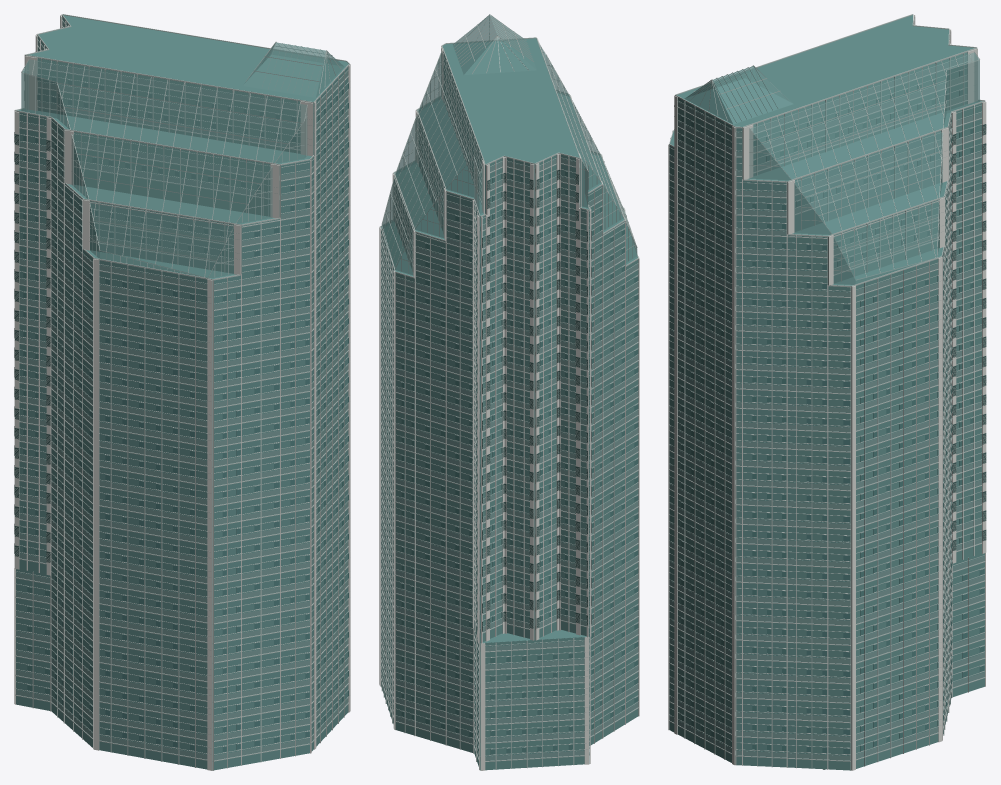
File: bespoke-lotte-castle-ivy-102.glb
3 views of the same model, side by side, from view 1: azimuth 30°, elevation 25°; view 2: azimuth 150°, elevation 25°; view 3: azimuth 270°, elevation 25° (orthographic). The views are drawn at different scales.
Parts seen in each view (by area): view 1: 102_broad_faces_and_V_end008, 102_broad_faces_and_V_end008_3, 102_broad_faces_and_V_end008_1, 102_sloped_glass_terraces_and_crown008_1, 102_broad_faces_and_V_end008_2, 102_individual_stepped_masses008, 102_broad_faces_and_V_end008_6, 102_sloped_glass_terraces_and_crown008, 102_broad_faces_and_V_end008_4, 102_broad_faces_and_V_end008_5; view 2: 102_broad_faces_and_V_end008, 102_broad_faces_and_V_end008_3, 102_broad_faces_and_V_end008_1, 102_broad_faces_and_V_end008_2, 102_individual_stepped_masses008, 102_sloped_glass_terraces_and_crown008_1, 102_broad_faces_and_V_end008_6, 102_broad_faces_and_V_end008_4, 102_sloped_glass_terraces_and_crown008, 102_broad_faces_and_V_end008_5; view 3: 102_broad_faces_and_V_end008, 102_broad_faces_and_V_end008_3, 102_broad_faces_and_V_end008_1, 102_sloped_glass_terraces_and_crown008_1, 102_broad_faces_and_V_end008_2, 102_individual_stepped_masses008, 102_broad_faces_and_V_end008_6, 102_sloped_glass_terraces_and_crown008, 102_broad_faces_and_V_end008_4, 102_broad_faces_and_V_end008_5.
Boxes of the visible parts, x1,y1,x2,y2 form: 102_broad_faces_and_V_end008: [16, 16, 348, 770]; 102_broad_faces_and_V_end008_3: [15, 20, 349, 768]; 102_broad_faces_and_V_end008_1: [16, 21, 348, 760]; 102_sloped_glass_terraces_and_crown008_1: [21, 42, 344, 278]; 102_broad_faces_and_V_end008_2: [14, 15, 350, 770]; 102_individual_stepped_masses008: [18, 15, 348, 278]; 102_broad_faces_and_V_end008_6: [23, 75, 348, 752]; 102_sloped_glass_terraces_and_crown008: [15, 14, 349, 280]; 102_broad_faces_and_V_end008_4: [14, 132, 50, 562]; 102_broad_faces_and_V_end008_5: [15, 135, 50, 562]; 102_broad_faces_and_V_end008: [381, 52, 638, 770]; 102_broad_faces_and_V_end008_3: [380, 45, 638, 769]; 102_broad_faces_and_V_end008_1: [381, 58, 638, 760]; 102_broad_faces_and_V_end008_2: [379, 38, 639, 770]; 102_individual_stepped_masses008: [381, 38, 637, 642]; 102_sloped_glass_terraces_and_crown008_1: [381, 15, 637, 274]; 102_broad_faces_and_V_end008_6: [381, 69, 638, 754]; 102_broad_faces_and_V_end008_4: [472, 169, 591, 631]; 102_sloped_glass_terraces_and_crown008: [380, 14, 638, 278]; 102_broad_faces_and_V_end008_5: [472, 171, 587, 629]; 102_broad_faces_and_V_end008: [669, 52, 984, 770]; 102_broad_faces_and_V_end008_3: [669, 19, 985, 768]; 102_broad_faces_and_V_end008_1: [669, 24, 984, 760]; 102_sloped_glass_terraces_and_crown008_1: [684, 52, 979, 284]; 102_broad_faces_and_V_end008_2: [668, 15, 986, 770]; 102_individual_stepped_masses008: [670, 15, 982, 285]; 102_broad_faces_and_V_end008_6: [681, 70, 984, 754]; 102_sloped_glass_terraces_and_crown008: [669, 14, 984, 287]; 102_broad_faces_and_V_end008_4: [952, 124, 986, 550]; 102_broad_faces_and_V_end008_5: [953, 125, 986, 550].
Bounding box in the file's own units: 43.56 × 117 × 47.17.
